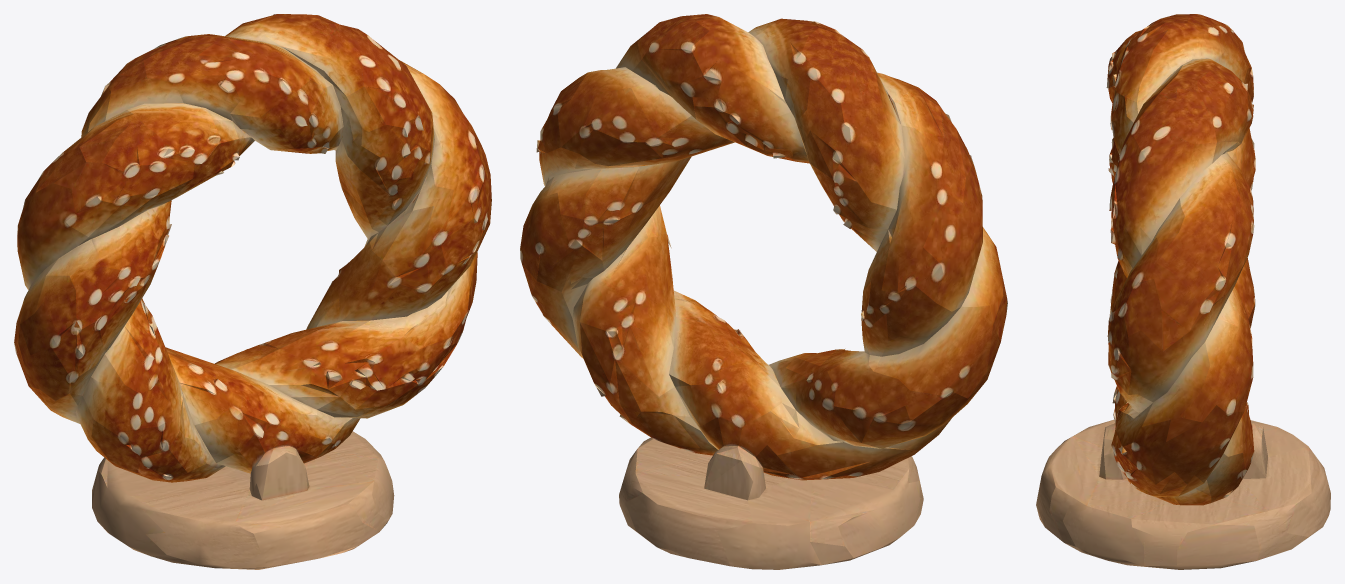
File: simit.glb
3 views of the same model, side by side, from view 1: azimuth 30°, elevation 25°; view 2: azimuth 150°, elevation 25°; view 3: azimuth 270°, elevation 25° (orthographic). The views are drawn at different scales.
Visible parts, largest first — view 1: output_unwrapped; view 2: output_unwrapped; view 3: output_unwrapped.
Part boxes in pixels (x1=…): output_unwrapped: x1=14, y1=14, x2=491, y2=569; output_unwrapped: x1=520, y1=14, x2=1007, y2=569; output_unwrapped: x1=1036, y1=14, x2=1330, y2=569.
Size of the model in its own units: 1.88 by 1.9 by 1.08.
Materials: 1 (1 with a texture image).
